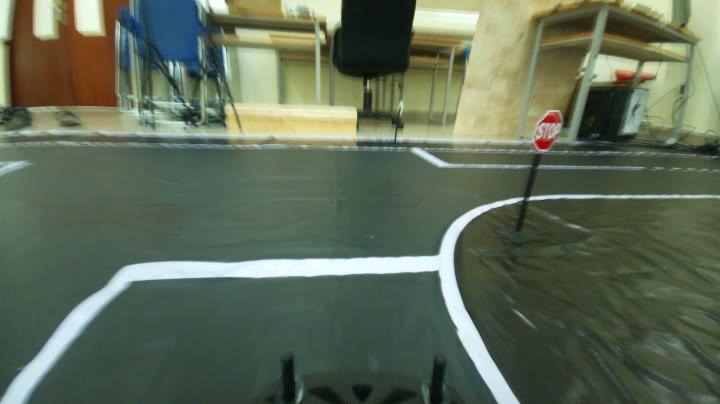stop: (528, 108, 566, 154)
